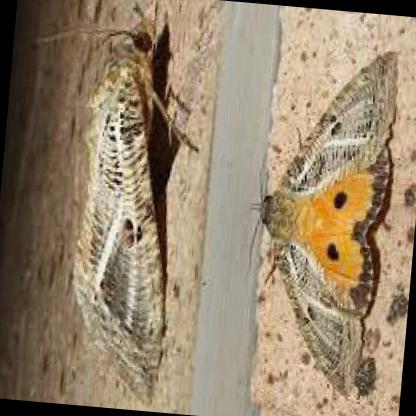fruit sucking moth: (257, 53, 398, 401)
